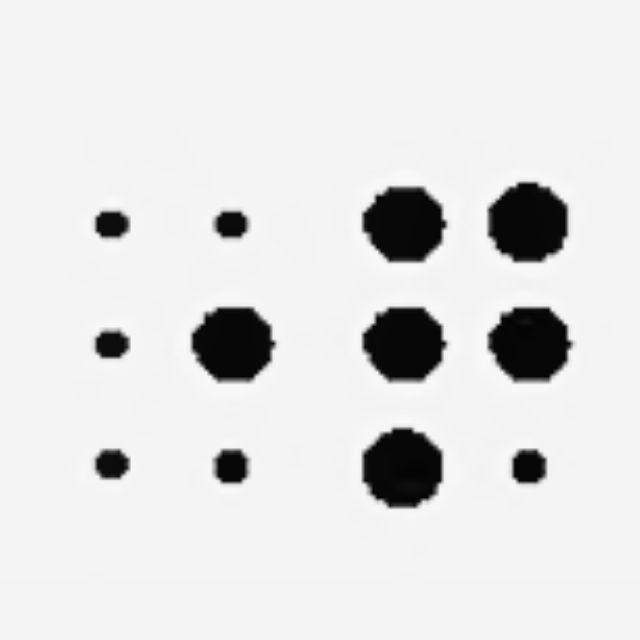dot_5: (75, 190, 275, 515)
kislap: (361, 183, 572, 506)
